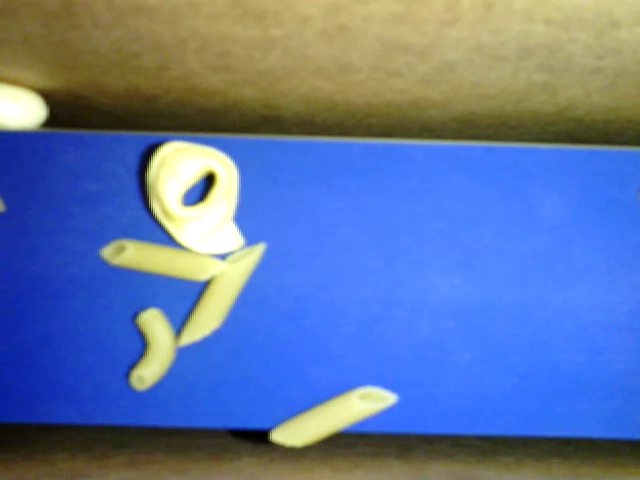elbow: (126, 306, 177, 391)
penne: (176, 240, 267, 346), (269, 384, 401, 448), (99, 238, 232, 279)
tortellini: (143, 138, 247, 254)
